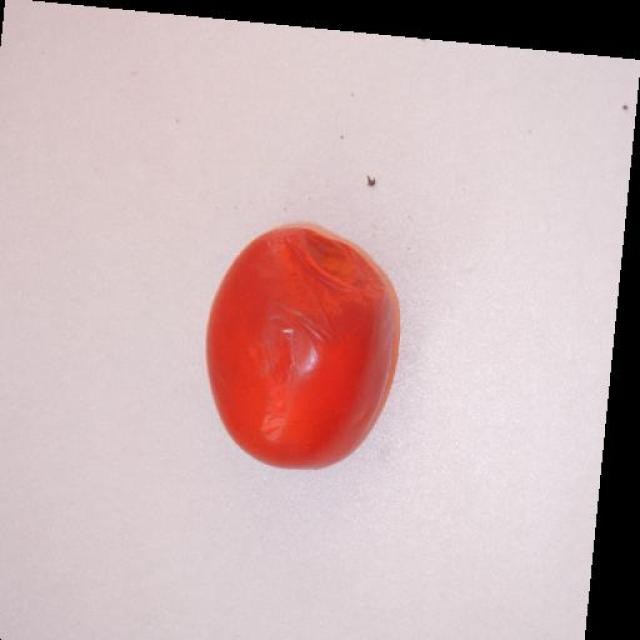Stale_tomato: (280, 201, 393, 331)
